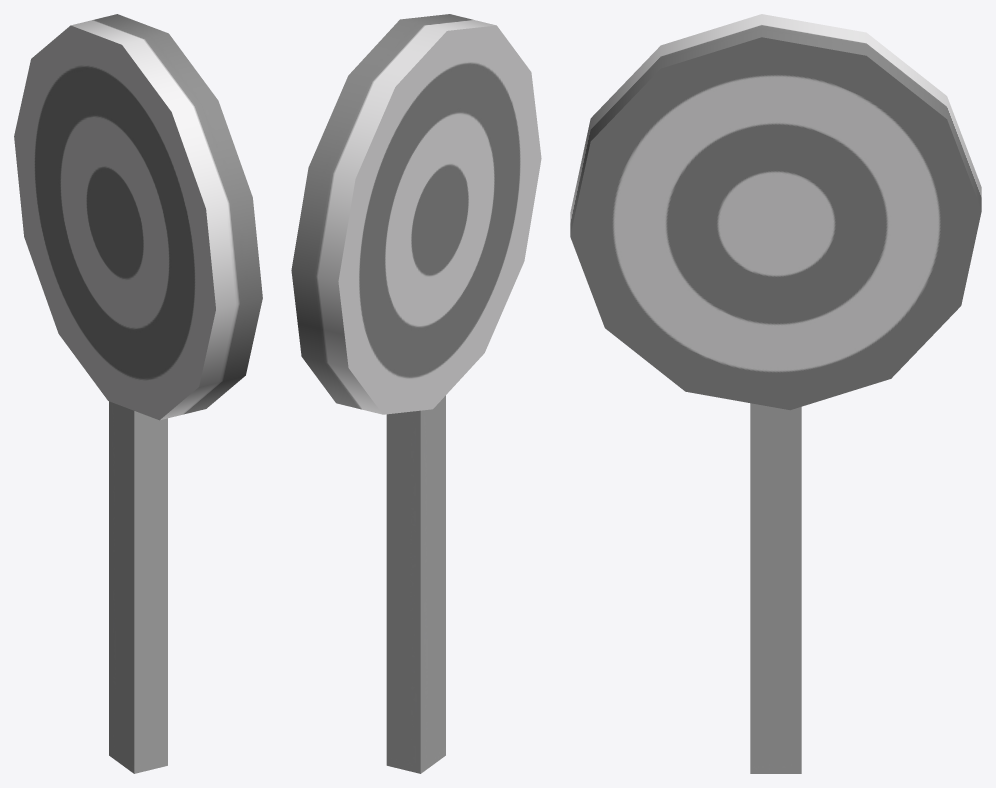
File: Target_Mesh_01.fbx
3 views of the same model, side by side, from view 1: azimuth 30°, elevation 25°; view 2: azimuth 150°, elevation 25°; view 3: azimuth 270°, elevation 25° (orthographic).
Parts seen in each view (by area): view 1: Target_Mesh_01; view 2: Target_Mesh_01; view 3: Target_Mesh_01.
Part boxes in pixels (<box>): Target_Mesh_01: <box>14,14,262,773</box>; Target_Mesh_01: <box>291,14,541,773</box>; Target_Mesh_01: <box>570,14,981,773</box>.
Size of the model in its own units: 0.2667 by 3.96 by 2.
